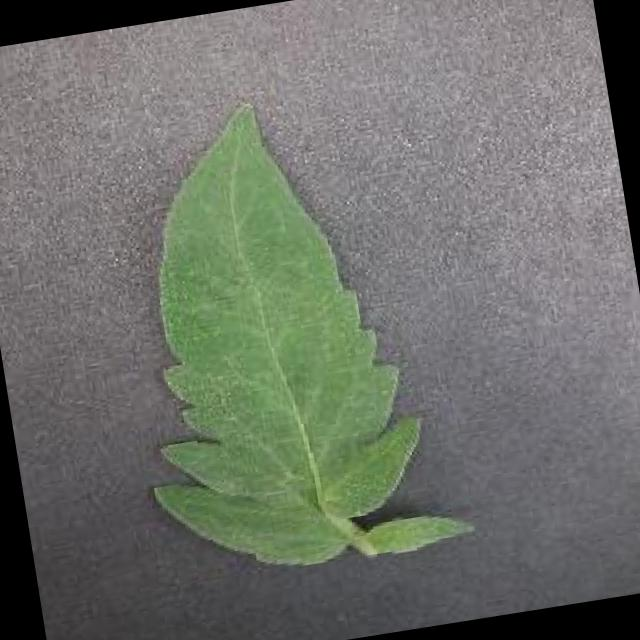Tomato_Healthy: (84, 71, 497, 598)
